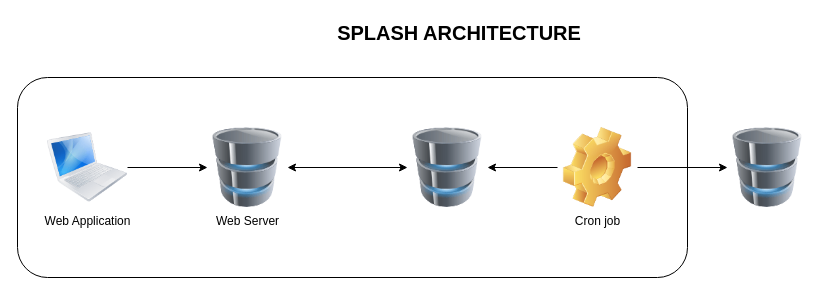
This 838x295 diagram has some shape labels left out. The shapes that lost their labels are listed below. From the top down, each one's centre as x and y in pixels, then its label:
At point (447, 167): "Back-end server".
At point (767, 167): "External FTP server".
